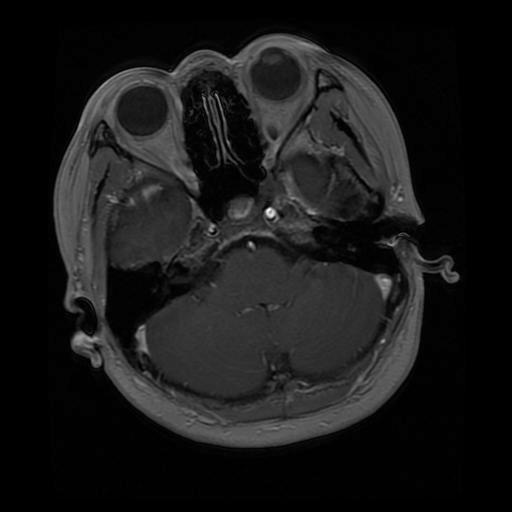Tumour-Pituitary: (224, 192, 256, 230)
